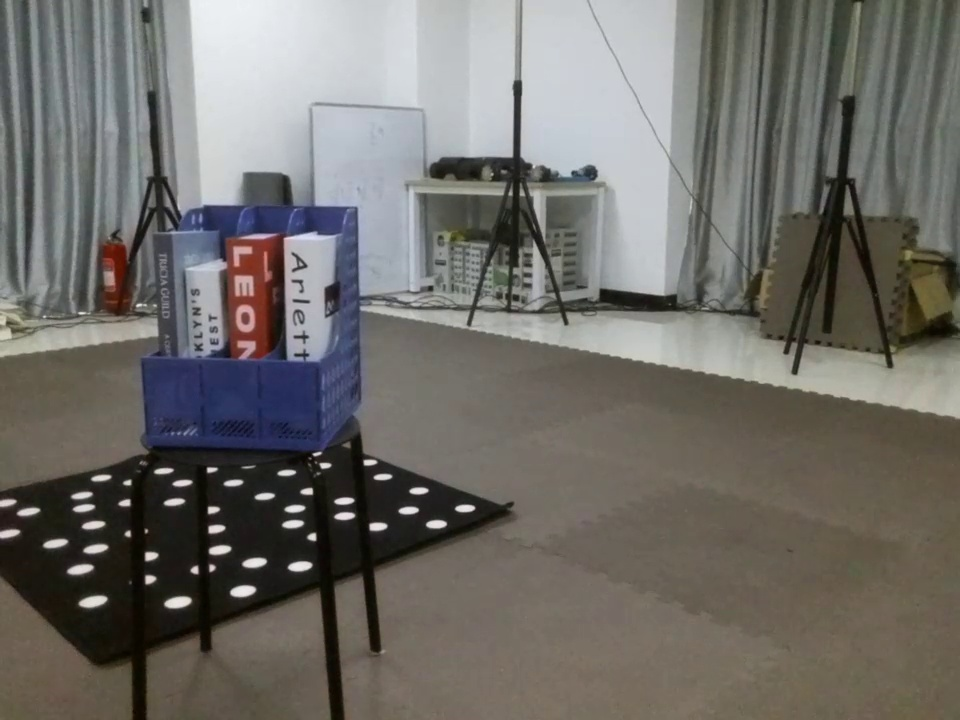files: (135, 189, 376, 462)
